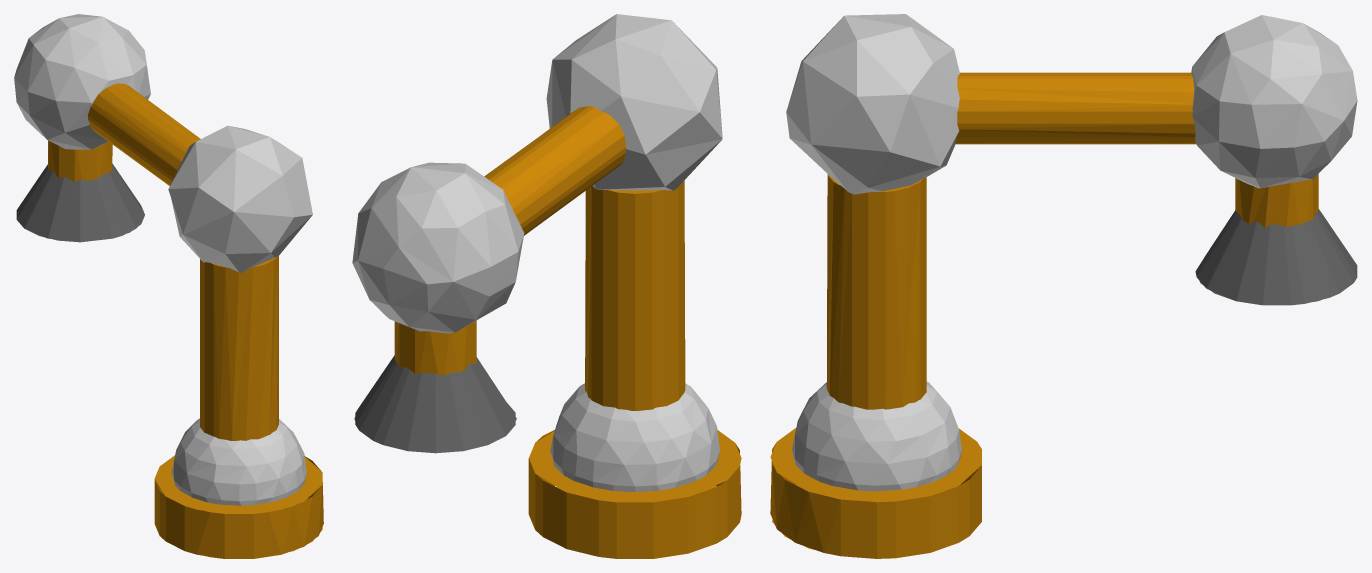
Rendered from 开发者机械臂.fbx.
3 views of the same model, side by side, from view 1: azimuth 30°, elevation 25°; view 2: azimuth 150°, elevation 25°; view 3: azimuth 270°, elevation 25° (orthographic). The views are drawn at different scales.
Visible parts, largest first — view 1: 三轴, 二轴, 五轴, 底座, 球体, 机抓, 四轴, 六轴; view 2: 五轴, 二轴, 三轴, 底座, 球体, 机抓, 四轴, 六轴; view 3: 三轴, 五轴, 二轴, 四轴, 底座, 球体, 机抓, 六轴.
Part boxes in pixels (x1,y1,x2,y2): 三轴: (168,125,312,272); 二轴: (200,255,278,440); 五轴: (14,14,150,149); 底座: (154,455,323,558); 球体: (171,418,306,505); 机抓: (16,163,144,242); 四轴: (87,83,200,185); 六轴: (48,140,112,181); 五轴: (352,162,524,333); 二轴: (585,180,685,410); 三轴: (546,14,722,190); 底座: (528,430,741,558); 球体: (550,383,719,492); 机抓: (354,355,516,453); 四轴: (484,106,625,235); 六轴: (394,320,476,375); 三轴: (786,14,959,194); 五轴: (1191,15,1357,188); 二轴: (826,174,926,409); 四轴: (954,72,1196,144); 底座: (770,428,981,558); 球体: (792,381,961,491); 机抓: (1195,209,1357,305); 六轴: (1235,174,1318,227).
Size of the model in its own units: 100 by 253 by 275.
